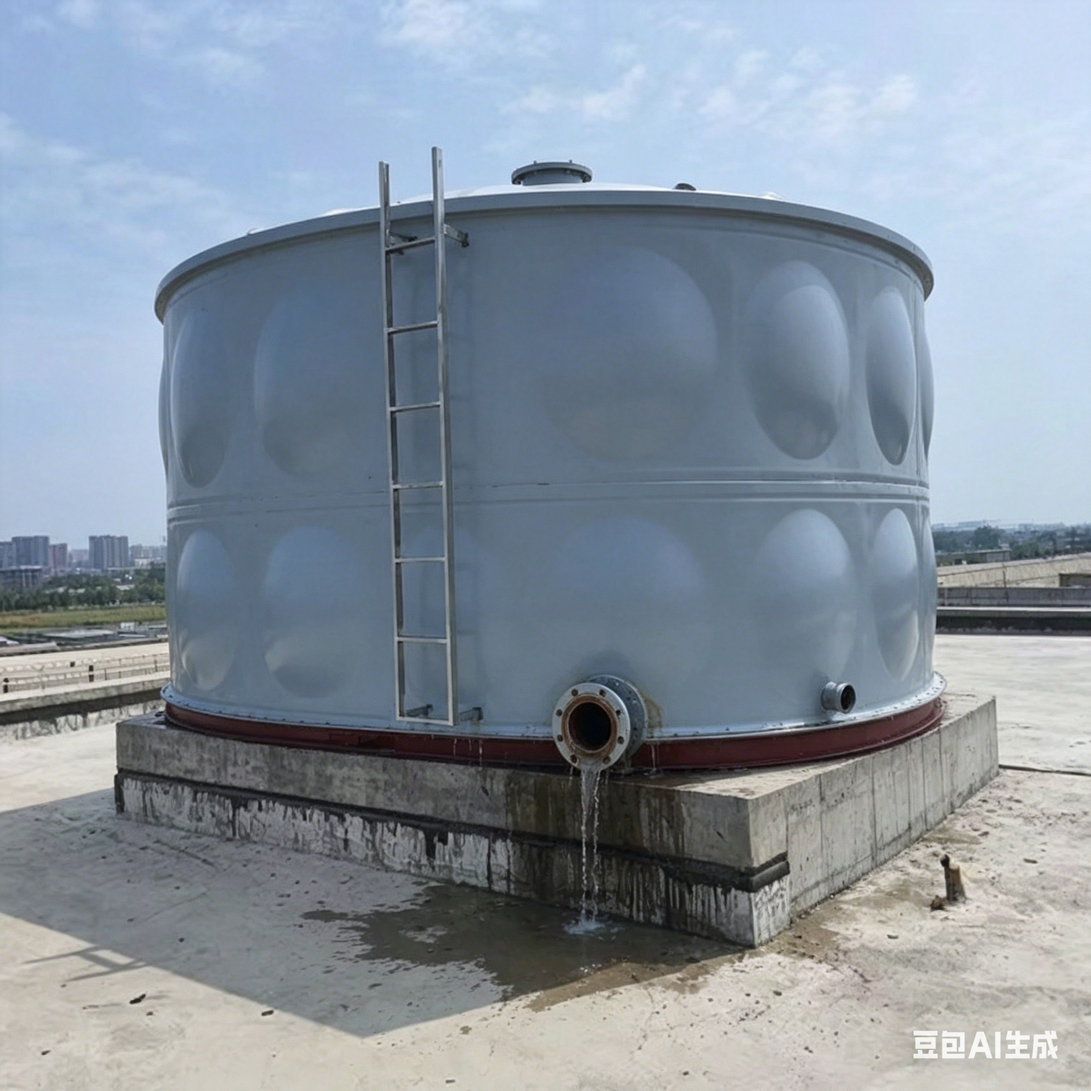Leakage: (529, 748, 678, 989), (353, 878, 521, 979)
